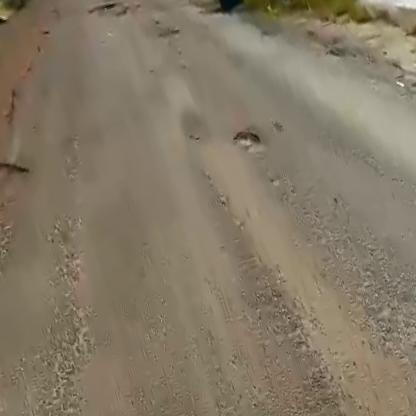pothole: (228, 118, 272, 155)
